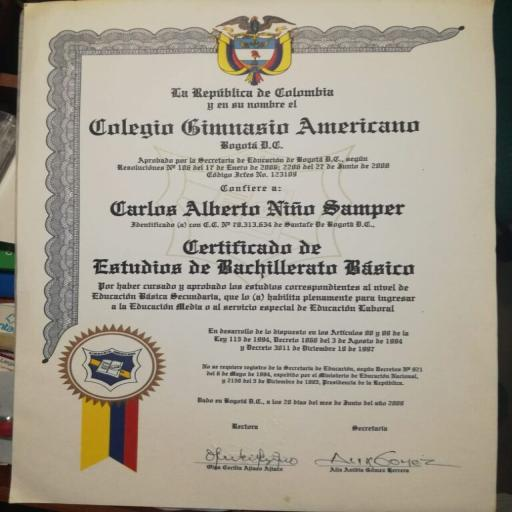bachillerato: (78, 252, 432, 282)
diploma: (8, 1, 497, 511), (12, 0, 495, 511)
escudo: (198, 9, 313, 89)
firma: (177, 432, 308, 486), (320, 441, 458, 484)
institucion: (75, 111, 435, 144)
nombre: (100, 192, 420, 228)
